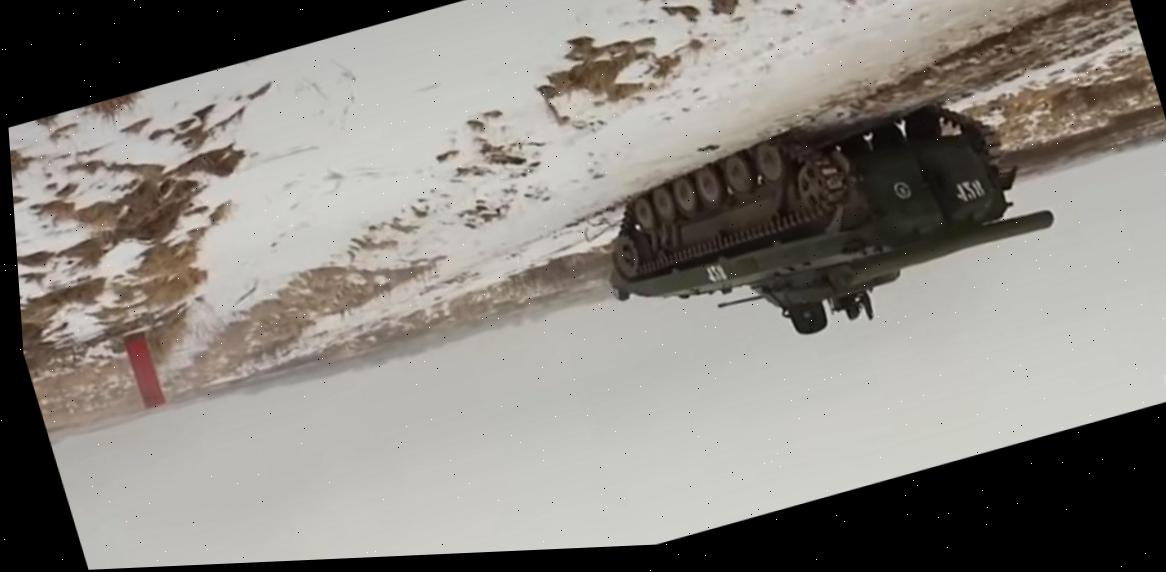tank: (568, 59, 1067, 384)
